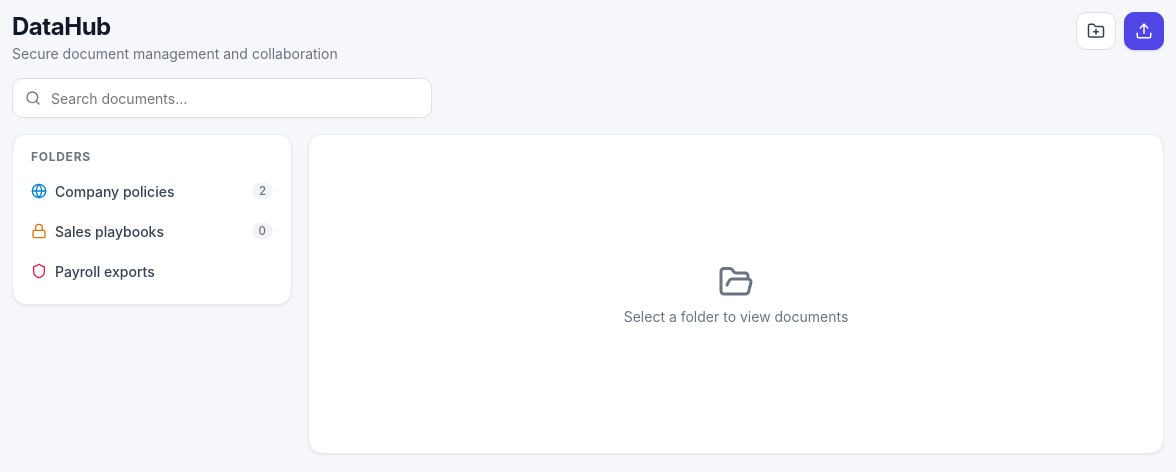
DataHub page › folders panel with level icons; selecting a folder lists its files with version, size, uploader, date and scan status
The image size is (1176, 472).
Click the button "Company policies 2". click: [152, 191]
box: [23,172,281,210]
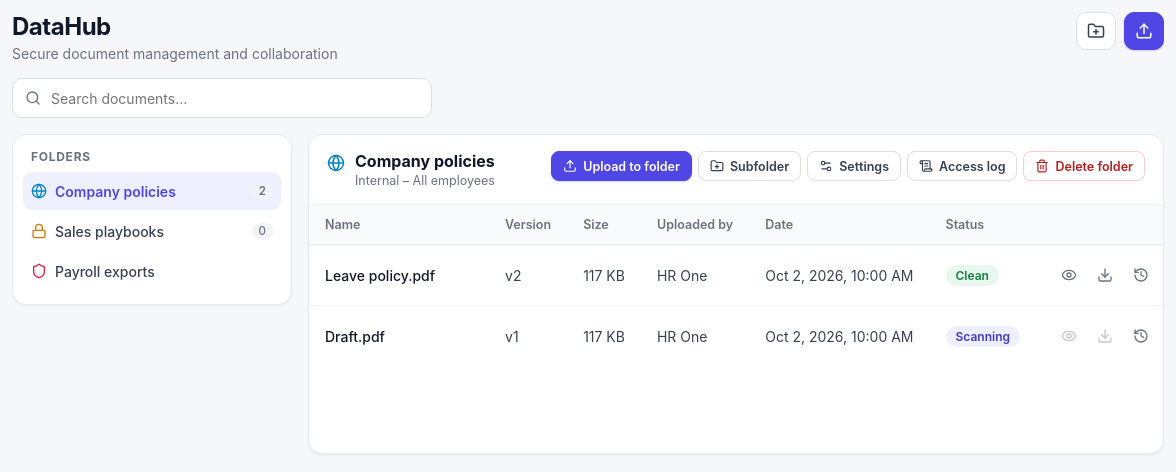
Expected: the row that starts with "Leave policy.pdf" is shown, [325,266,435,284]
Expected: the row that starts with "Leave policy.pdf" shows "v2", [309,244,1163,306]
Expected: the row that starts with "Leave policy.pdf" shows "117 KB", [583,266,625,284]
Note: A manager who is not a member of a restricted folder sees settings, not files.
Click the button "Payroll exports". click: [152, 271]
box: [23,252,281,290]
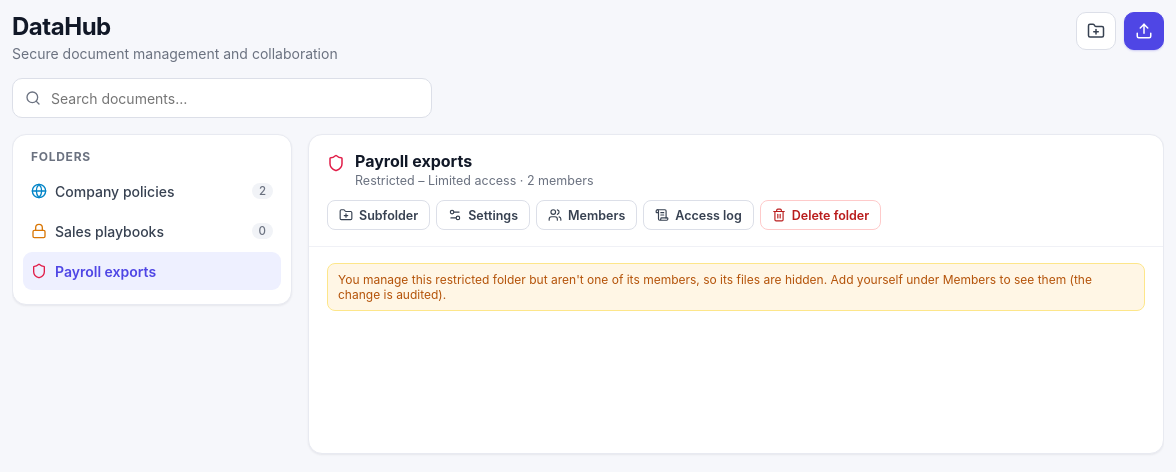
Expected: the text "aren't one of its members" is shown, [338,272,1092,302]
Expected: the button "Members" is shown, [536,200,637,230]
